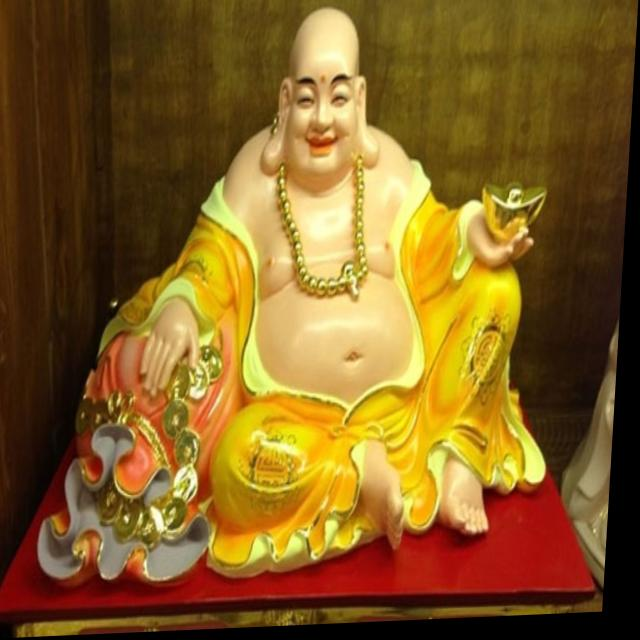Smiling Buddha: (220, 2, 452, 517)
